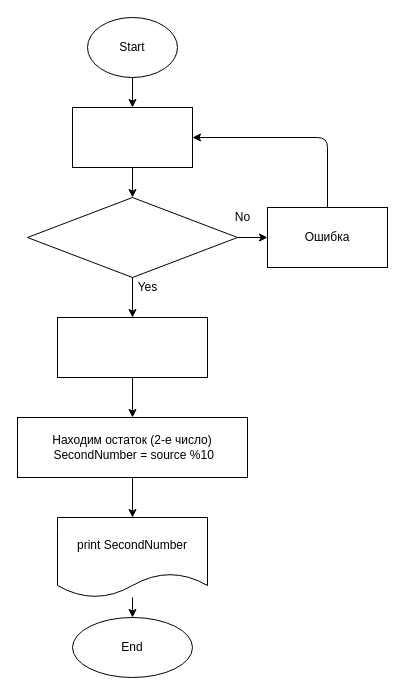
Image size: 405x695. Some labels were removed from this diagram. The shapes that lost their labels are listed below. From the top down, each one's box as (x1, y1, x2, y2) in pixels, then its label:
(72, 106, 192, 168): Ввод числа source с консоли
(26, 196, 238, 278): 99 > source < 1000
(56, 316, 208, 378): Уменьшаем число до 2х значного source /= 10
